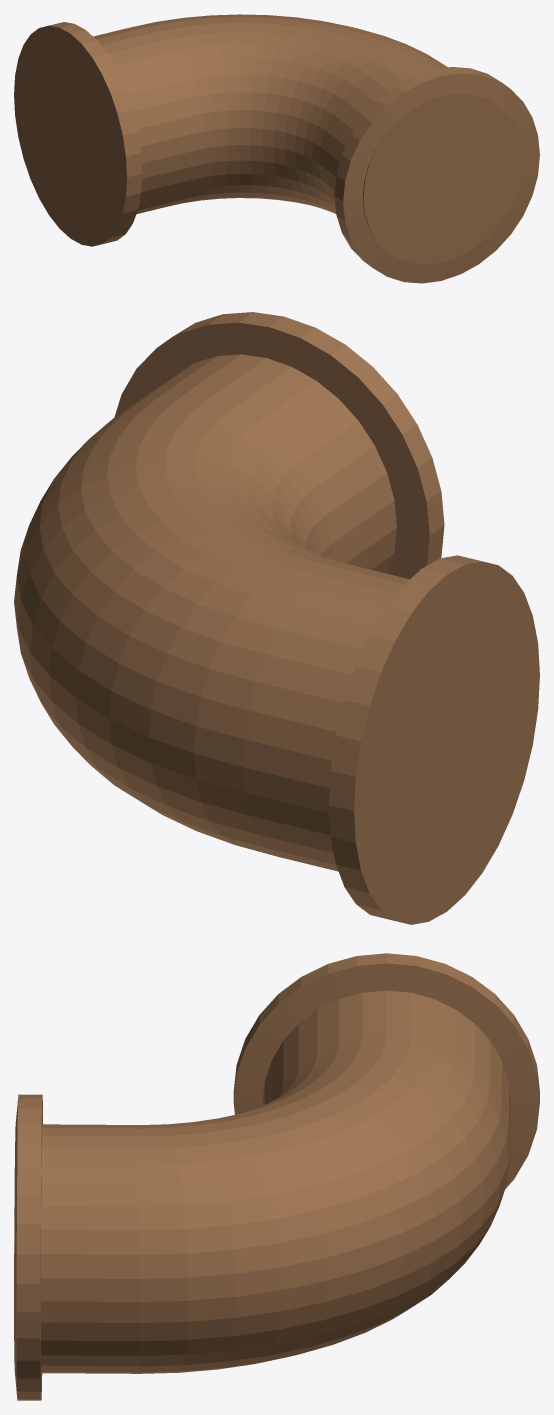
Rendered from rohr_gebogen.fbx.
3 views of the same model, one above another, from view 1: azimuth 30°, elevation 25°; view 2: azimuth 150°, elevation 25°; view 3: azimuth 270°, elevation 25° (orthographic). The views are drawn at different scales.
Visible parts, largest first — view 1: Zylinder; view 2: Zylinder; view 3: Zylinder.
Part boxes in pixels (x1,y1,x2,y2): Zylinder: [14, 14, 539, 283]; Zylinder: [14, 312, 539, 924]; Zylinder: [14, 953, 539, 1400].
Size of the model in its own units: 83.7 by 49.21 by 84.48.
